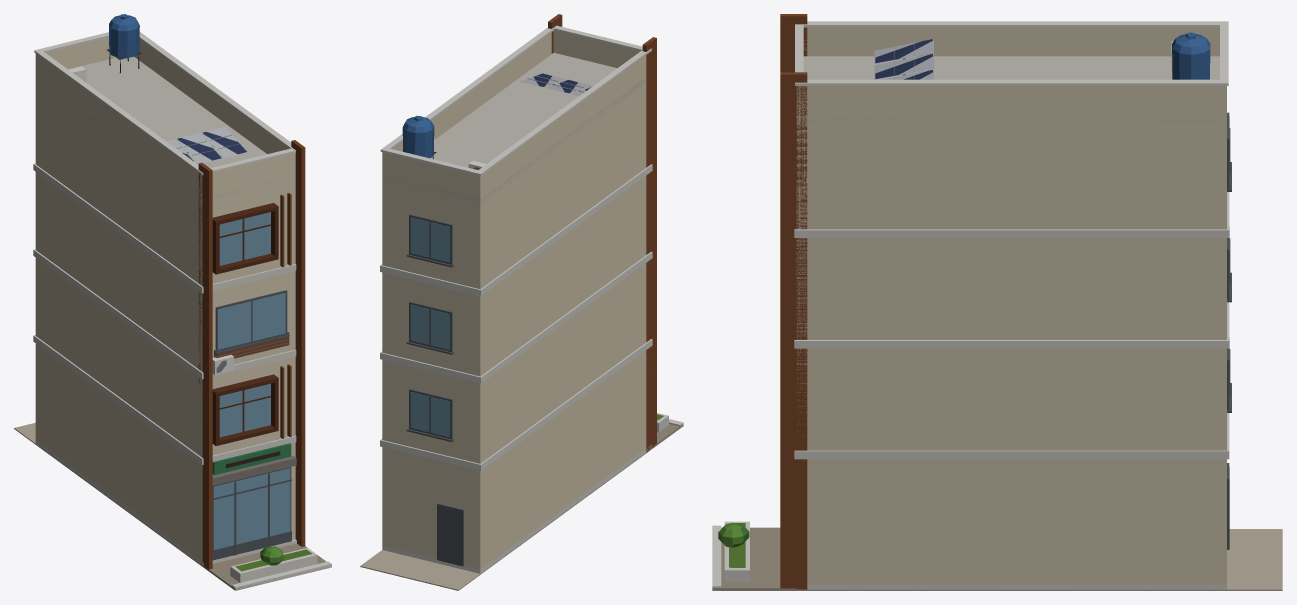
The model's file is bay2_mid.glb.
3 views of the same model, side by side, from view 1: azimuth 30°, elevation 25°; view 2: azimuth 150°, elevation 25°; view 3: azimuth 270°, elevation 25° (orthographic). The views are drawn at different scales.
Visible parts, largest first — view 1: body; view 2: body; view 3: body.
Part boxes in pixels (x1,y1,x2,y2): body: (14,14,331,590); body: (360,14,683,590); body: (712,14,1282,590).
Bounding box in the file's own units: 4.12 × 16.69 × 15.9.
